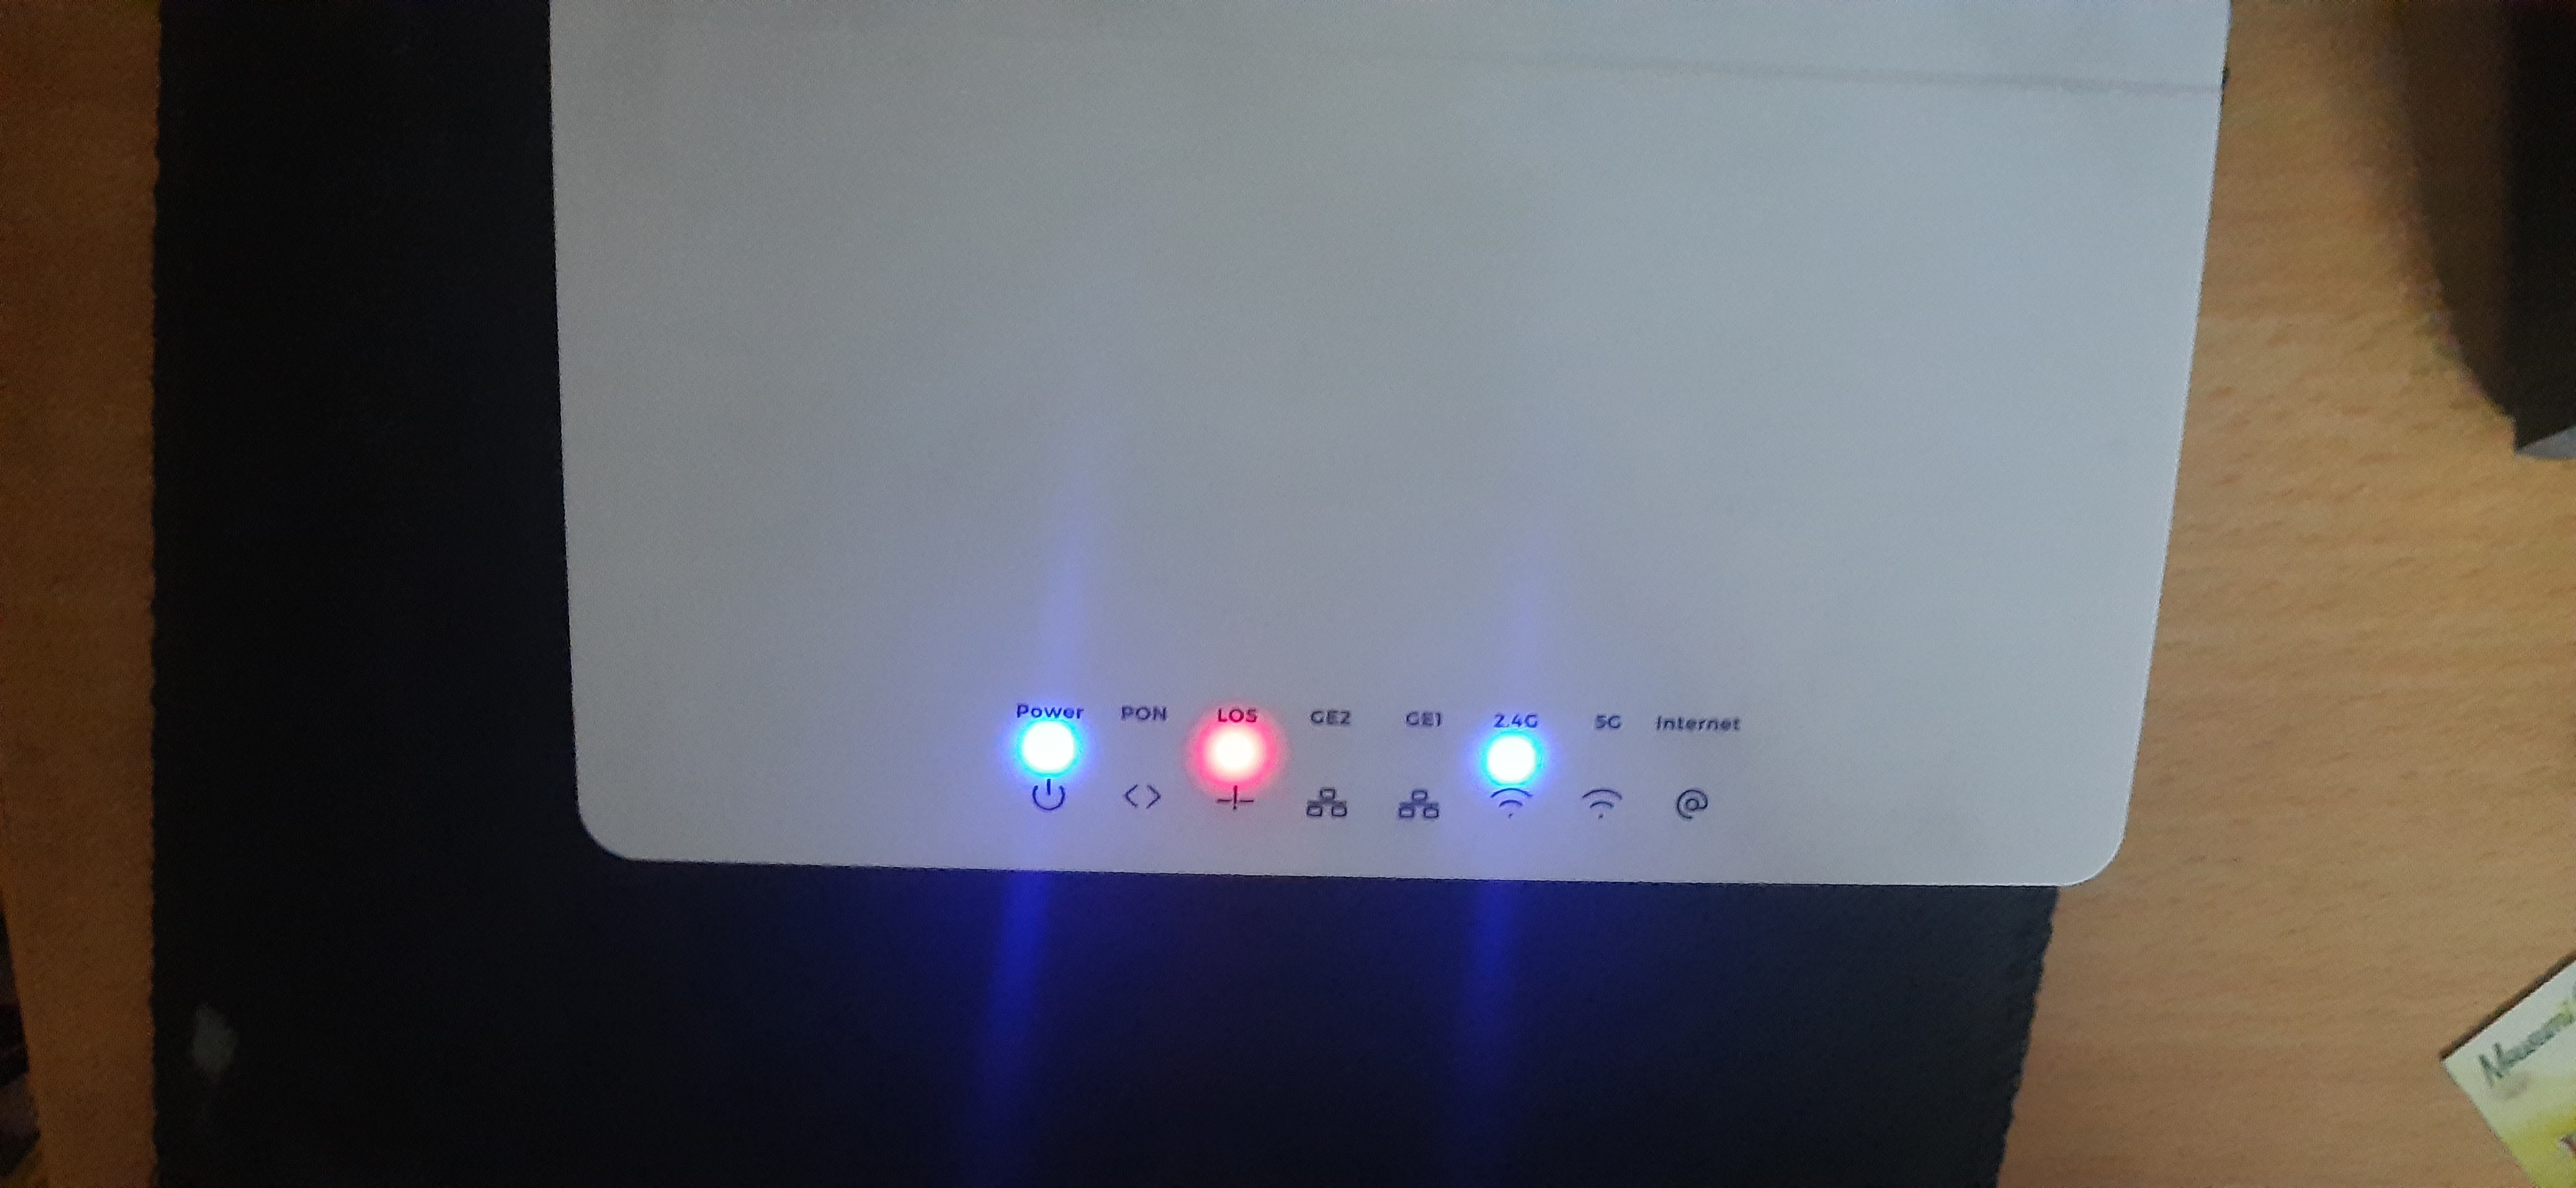LOSConnectionIssue: (1173, 693, 1313, 848)
